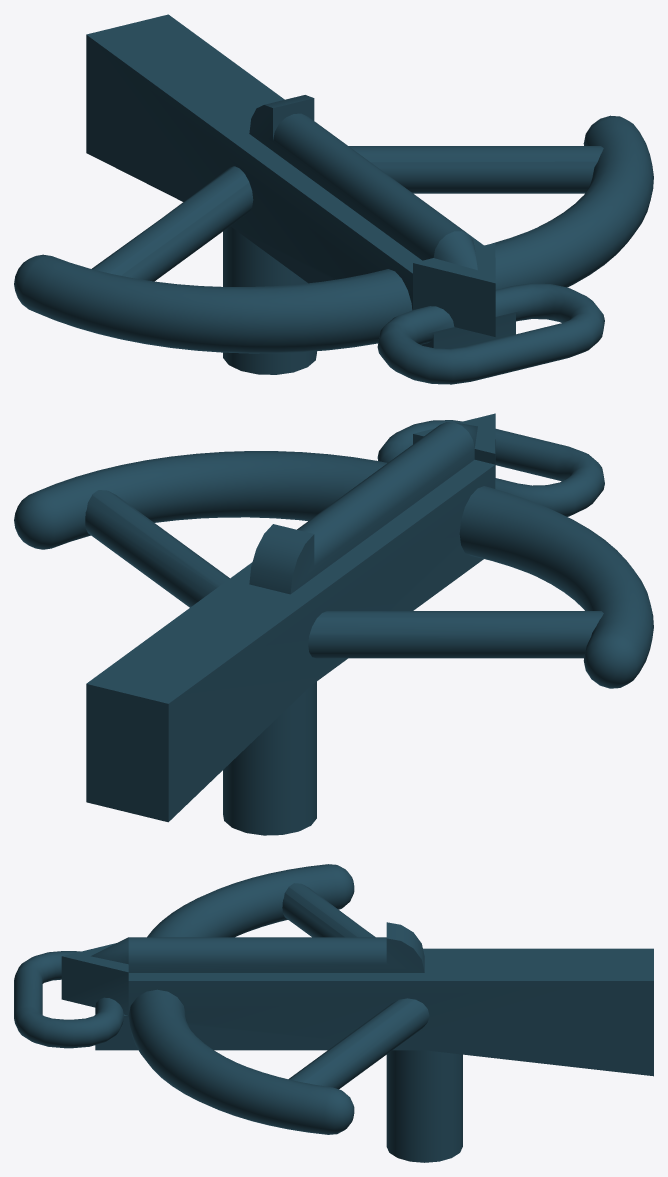
Rendered from Crossbow.dae.
The picture shows the model from 3 angles, top to bottom: view 1: azimuth 30°, elevation 25°; view 2: azimuth 150°, elevation 25°; view 3: azimuth 270°, elevation 25°; orthographic projection. The views are drawn at different scales.
Visible parts, largest first — view 1: Object; view 2: Object; view 3: Object.
Part boxes in pixels (<box>): Object: <box>14,14,653,384</box>; Object: <box>14,413,653,835</box>; Object: <box>14,864,653,1162</box>.
Bounding box in the file's own units: 24.12 × 26.8 × 10.
